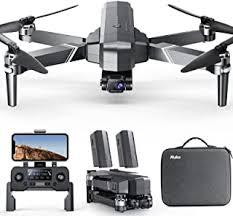drone: (0, 0, 233, 117)
